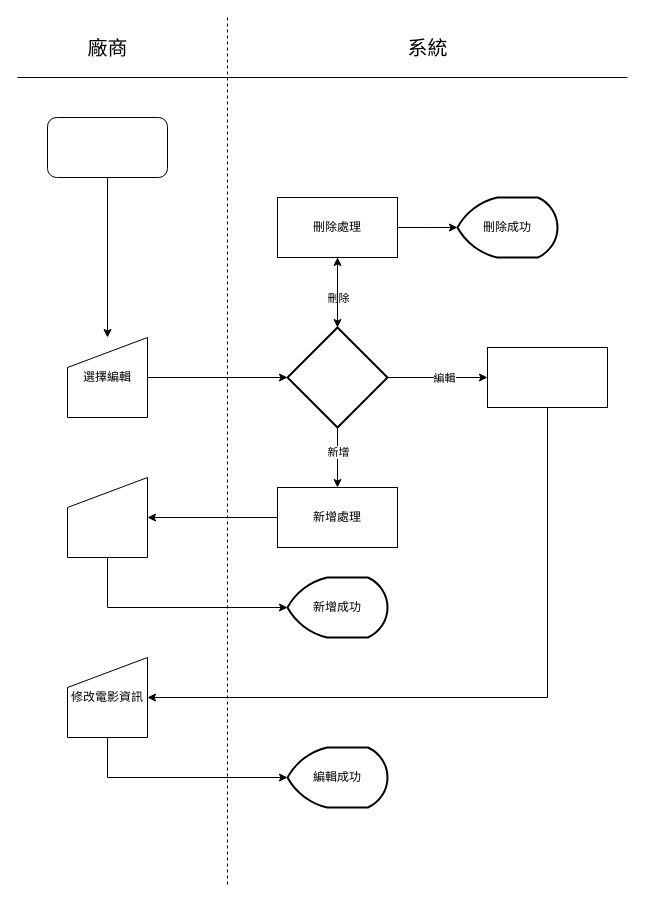
Some shapes in this 646 by 906 pixel diagram are drawn without their labels. Here are the shapes that lost their labels. From the top down, the box of each, then its label:
(46, 116, 168, 178): 開始編輯電影場次
(286, 326, 388, 428): 選擇新增、 編輯、刪除
(486, 346, 608, 408): 編輯處理
(66, 476, 148, 558): 輸入電影資訊
